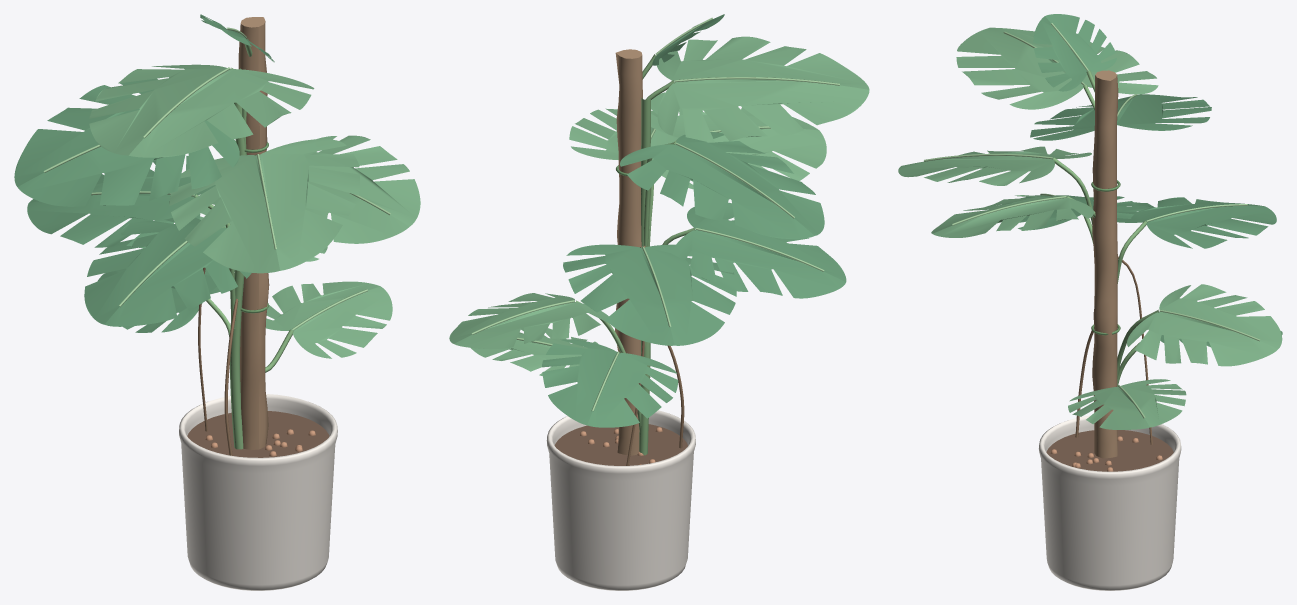
The model's file is plante.glb.
3 renders of one model, left to right at view 1: azimuth 30°, elevation 25°; view 2: azimuth 150°, elevation 25°; view 3: azimuth 270°, elevation 25°, orthographic. The views are drawn at different scales.
Parts seen in each view (by area): view 1: plante; view 2: plante; view 3: plante.
Part boxes in pixels (box(x1,y1,x2,y2)): plante: box(14, 14, 420, 590); plante: box(449, 14, 869, 590); plante: box(898, 14, 1282, 590).
Bounding box in the file's own units: 0.9147 × 1.37 × 0.9216.
